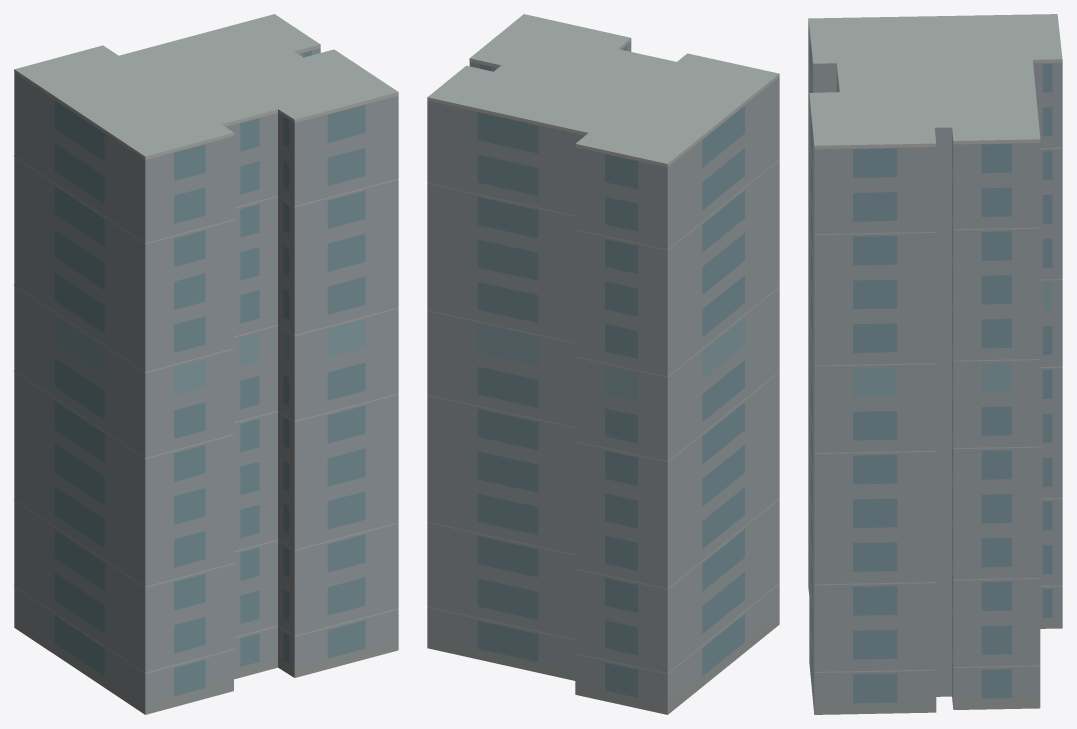
Rendered from survey-upis-32739884.glb.
3 views of the same model, side by side, from view 1: azimuth 30°, elevation 25°; view 2: azimuth 150°, elevation 25°; view 3: azimuth 270°, elevation 25° (orthographic). The views are drawn at different scales.
Visible parts, largest first — view 1: survey-upis-32739884.tmp; view 2: survey-upis-32739884.tmp; view 3: survey-upis-32739884.tmp.
Part boxes in pixels (x1=…): survey-upis-32739884.tmp: x1=14, y1=14, x2=398, y2=714; survey-upis-32739884.tmp: x1=427, y1=14, x2=779, y2=714; survey-upis-32739884.tmp: x1=808, y1=14, x2=1062, y2=714.
Size of the model in its own units: 19.9 by 40 by 16.21.
